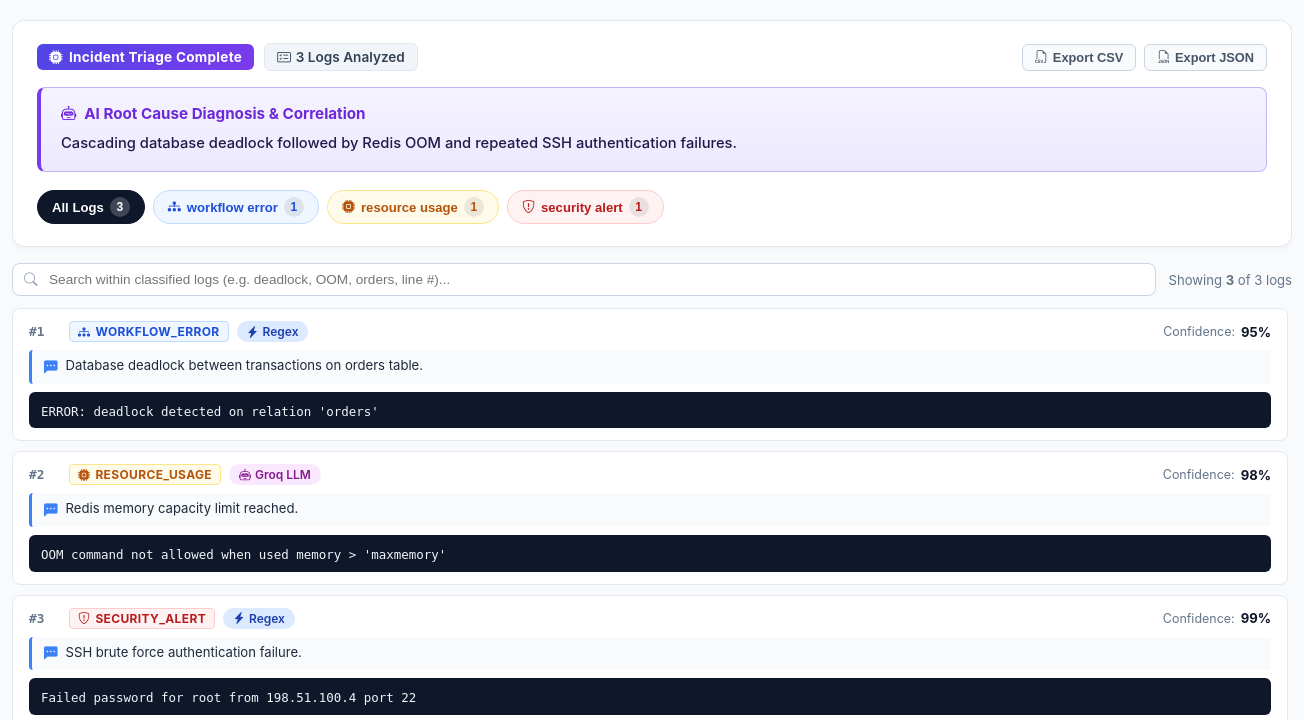
MultiLogResult Component › filters items by category pill and search query
Filter by Security Alert
Click the button "security alert 1".
click(585, 207)  # box 507,190 -> 664,224
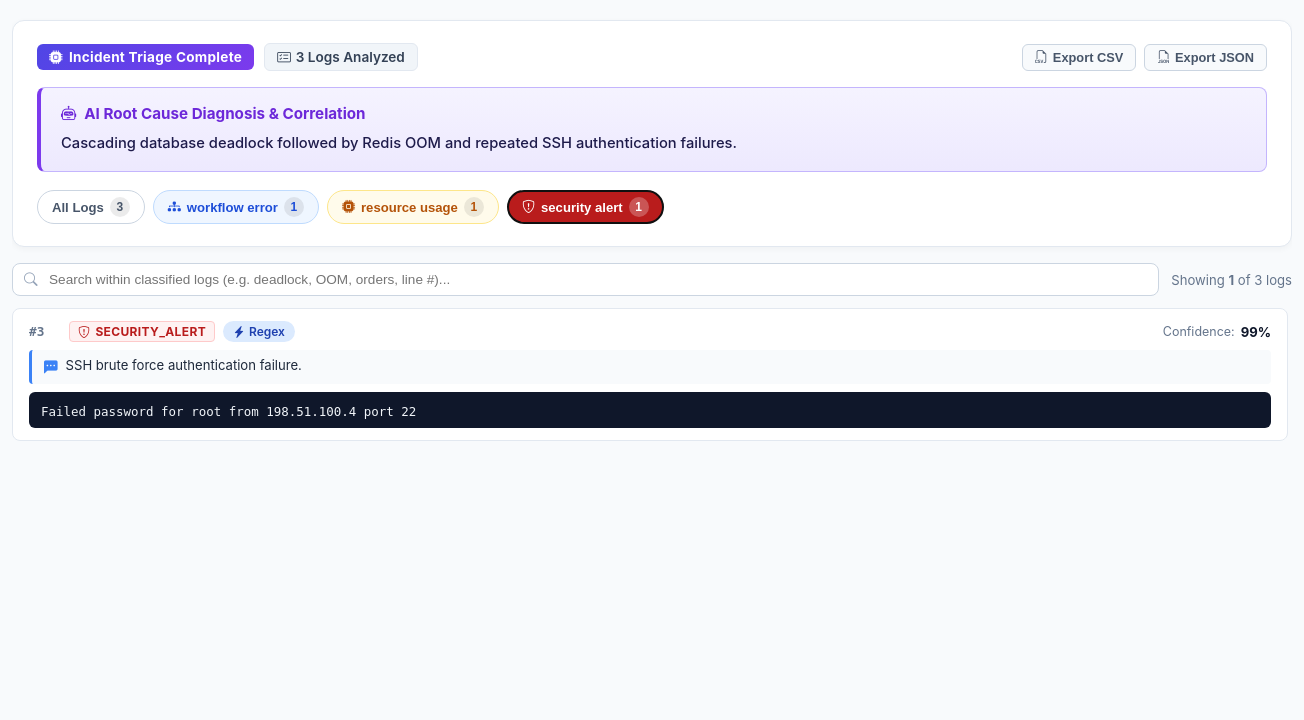
Expected: the element with test id "log-item-3" is shown, 12,308 -> 1288,442
Expected: the element with test id "log-item-1" is gone
Expected: the element with test id "log-item-2" is gone
Reset to All
Click the button "All Logs 3".
click(91, 207)  # box 37,190 -> 145,224
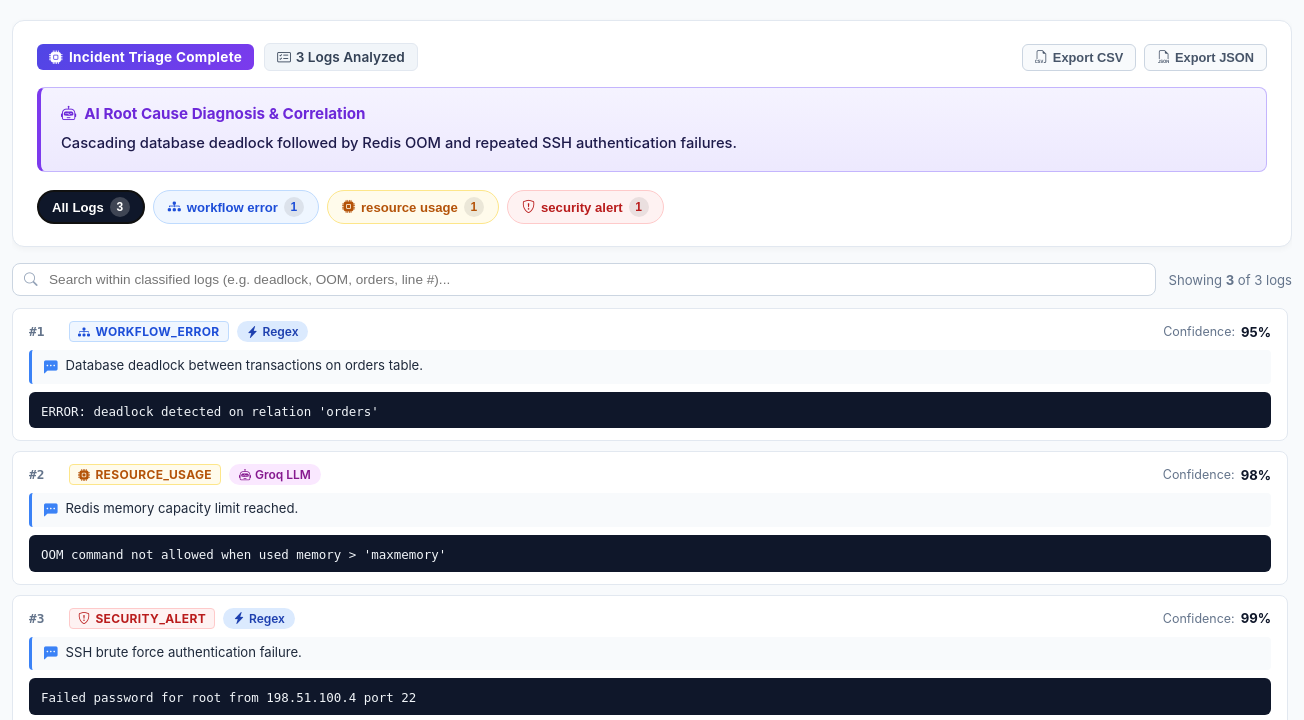
Search by keyword "deadlock"
Type "deadlock" into the field with placeholder "Search within classified logs".
click(584, 280); type("deadlock")  # box 12,263 -> 1156,296
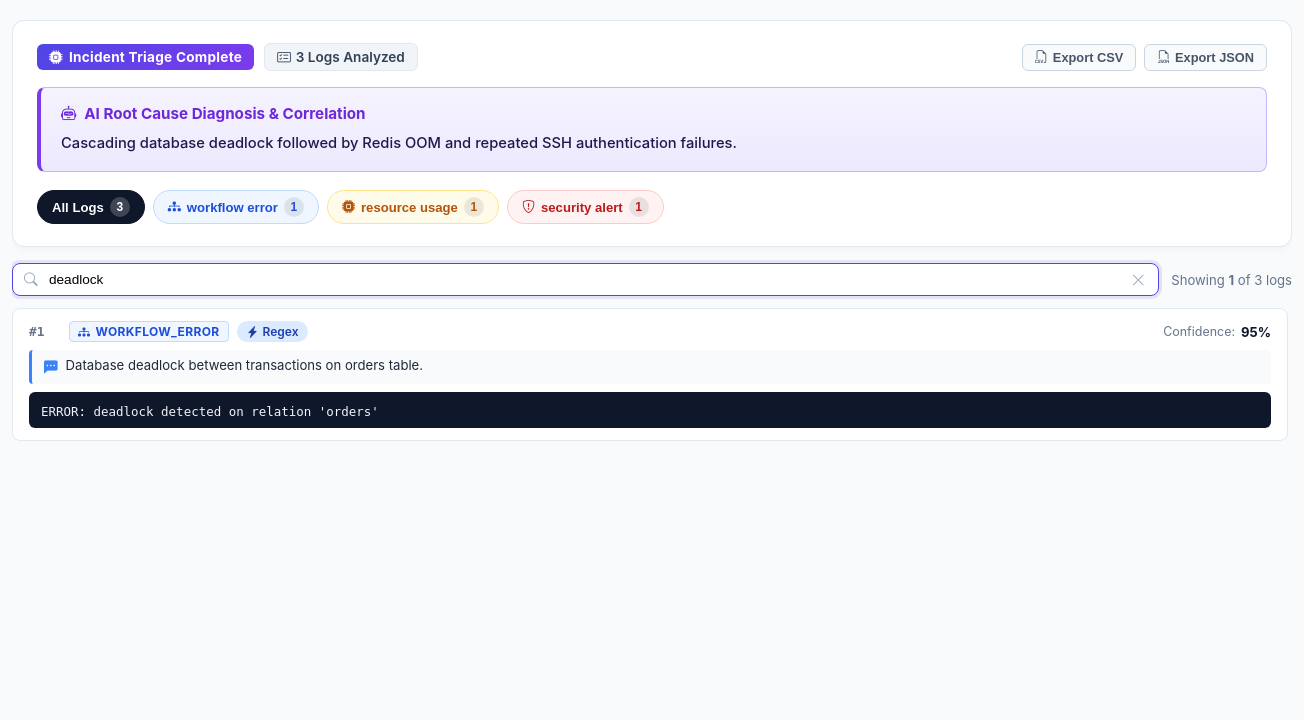
Expected: the element with test id "log-item-1" is shown, 12,308 -> 1288,442
Expected: the element with test id "log-item-2" is gone
